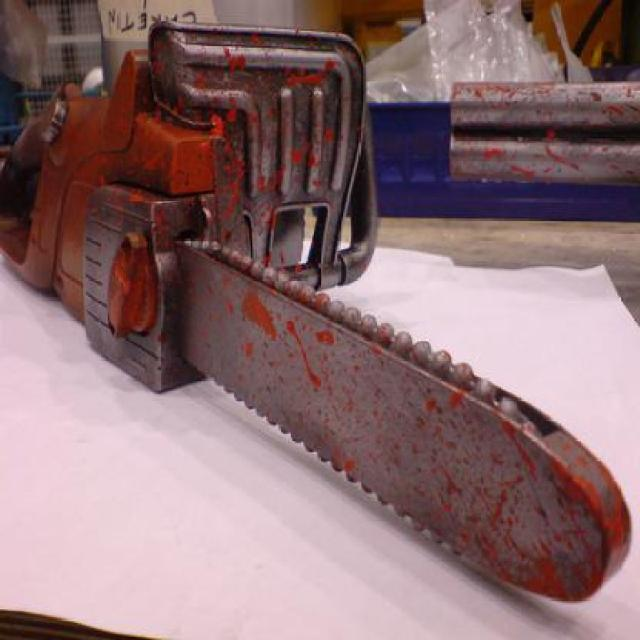Chainsaw: (0, 18, 632, 603)
